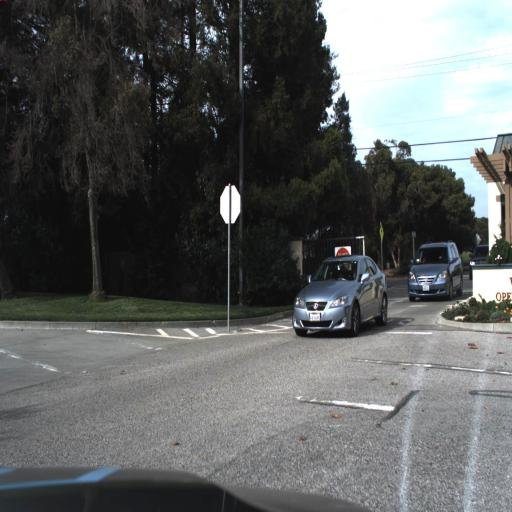car: (291, 252, 388, 340)
